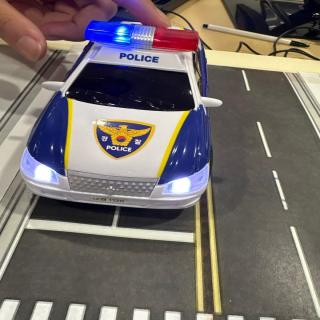Police_car: (21, 21, 222, 208)
